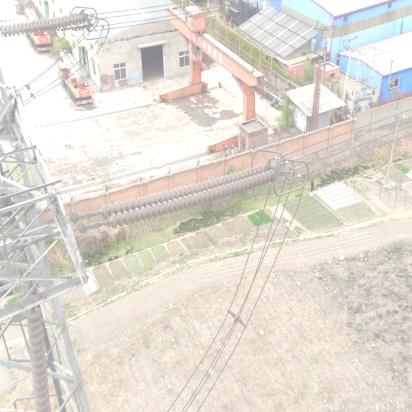insulator: (91, 162, 280, 230), (1, 13, 89, 36)
